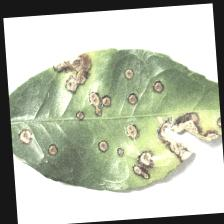canker: (20, 56, 224, 176)
